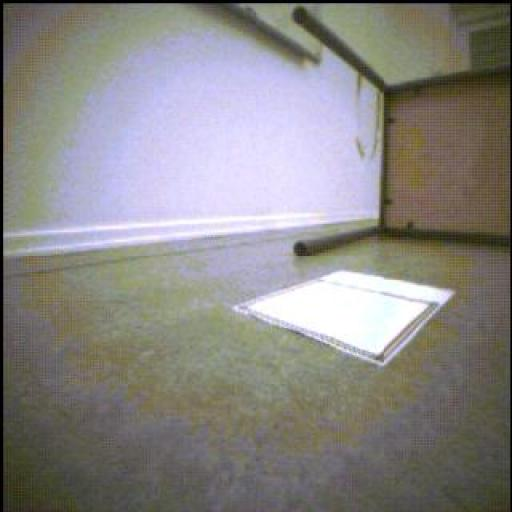Pad: (236, 271, 454, 366)
